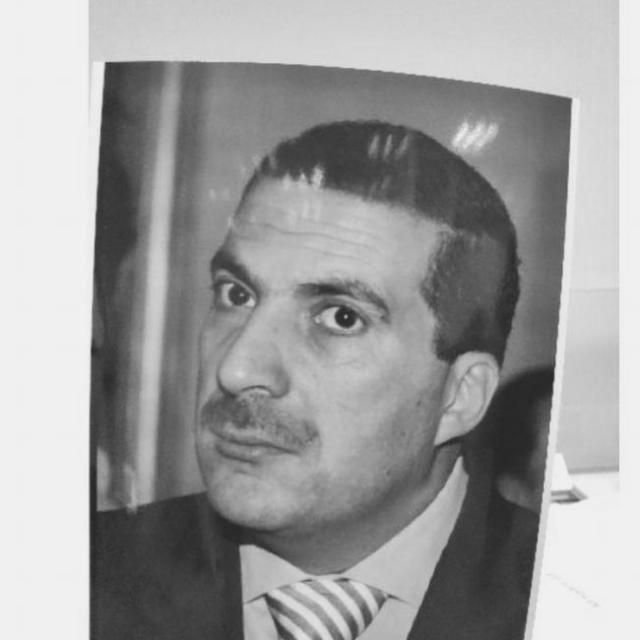fake: (88, 56, 564, 640)
